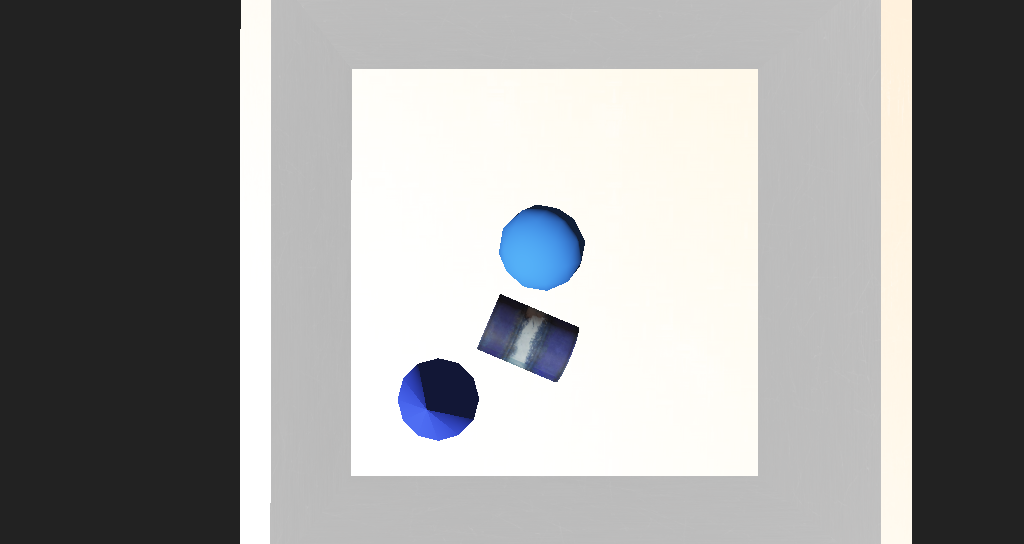cone: (448, 277, 522, 324)
cylinder: (377, 313, 445, 365)
sphere: (468, 236, 529, 279)
